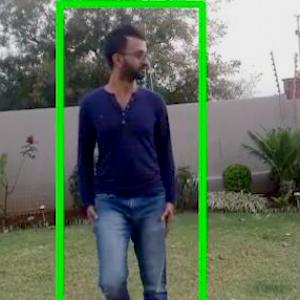follow: (70, 18, 187, 296)
